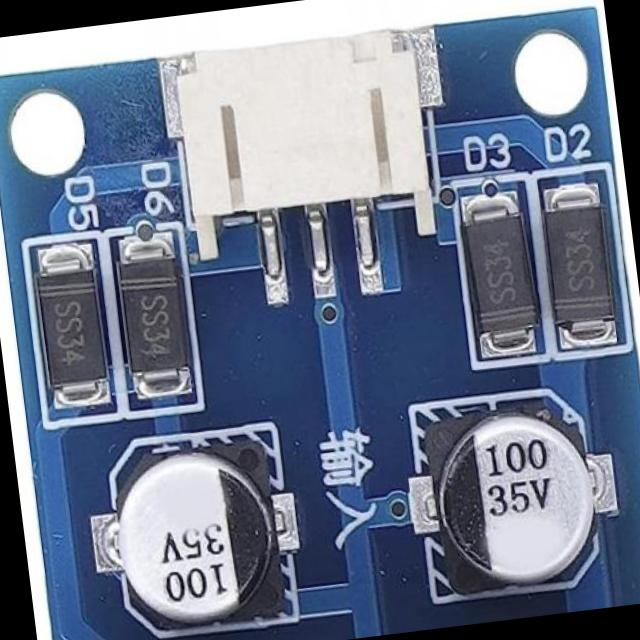capacitor: (87, 428, 295, 640), (414, 392, 602, 608)
connector: (165, 30, 442, 288)
diode: (454, 182, 540, 350), (535, 168, 620, 337), (34, 240, 116, 400), (114, 234, 186, 394)
